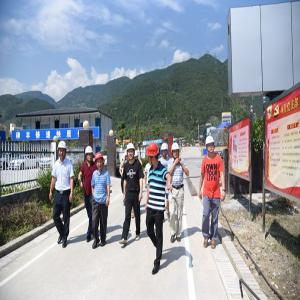red: (148, 144, 160, 166), (95, 153, 105, 172)
white: (58, 140, 68, 161), (206, 136, 216, 154), (171, 144, 181, 161), (128, 144, 136, 162), (86, 146, 94, 162), (162, 143, 170, 158)
